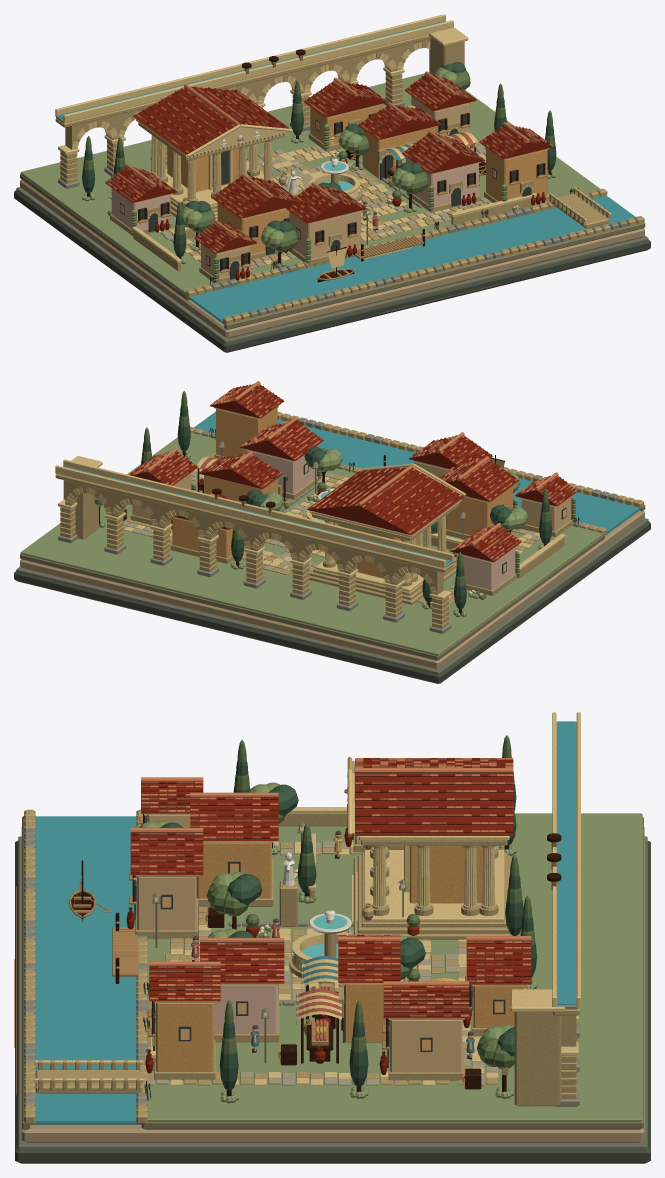
The model's file is roman-town.glb.
3 renders of one model, top to bottom at view 1: azimuth 30°, elevation 25°; view 2: azimuth 150°, elevation 25°; view 3: azimuth 270°, elevation 25°, orthographic. The views are drawn at different scales.
Parts seen in each view (by area): view 1: static_travertine, static_limestone, static_roof, static_grass, river_surface_water, static_base, static_plaster, static_soil_band, static_roof_light, static_soil, static_roof_dark, static_base_trim (+11 smaller); view 2: static_grass, static_travertine, static_roof, static_limestone, static_base, static_soil_band, static_plaster, static_roof_light, river_surface_water, static_base_trim, static_soil, static_roof_dark (+6 smaller); view 3: static_grass, static_roof, static_travertine, river_surface_water, static_limestone, static_plaster, static_base, static_roof_light, static_soil_band, static_plaster_gold, static_roof_dark, static_base_trim (+20 smaller).
Part boxes in pixels (box(x1,y1,x2,y2)): static_travertine: box(55, 34, 644, 324); static_limestone: box(55, 14, 611, 267); static_roof: box(105, 74, 553, 280); static_grass: box(20, 73, 599, 294); river_surface_water: box(190, 195, 635, 321); static_base: box(14, 190, 650, 352); static_plaster: box(167, 105, 547, 254); static_soil_band: box(20, 179, 644, 338); static_roof_light: box(108, 71, 553, 252); static_soil: box(20, 174, 645, 329); static_roof_dark: box(105, 74, 546, 250); static_base_trim: box(16, 187, 648, 343); static_grass: box(20, 432, 603, 655); static_travertine: box(55, 411, 643, 628); static_roof: box(130, 385, 577, 562); static_limestone: box(55, 406, 565, 602); static_base: box(14, 521, 650, 683); static_soil_band: box(20, 510, 644, 669); static_plaster: box(172, 406, 512, 578); static_roof_light: box(128, 381, 577, 559); river_surface_water: box(194, 411, 639, 531); static_base_trim: box(16, 518, 648, 674); static_soil: box(20, 504, 645, 660); static_roof_dark: box(132, 383, 574, 561); static_grass: box(147, 813, 642, 1122); static_roof: box(126, 758, 531, 1074); static_travertine: box(24, 803, 579, 1123); river_surface_water: box(35, 816, 136, 1121); static_limestone: box(34, 712, 580, 1085); static_plaster: box(156, 842, 524, 1071); static_base: box(15, 841, 650, 1163); static_roof_light: box(130, 758, 531, 1016); static_soil_band: box(21, 827, 644, 1142); static_plaster_gold: box(137, 815, 462, 1072); static_roof_dark: box(140, 758, 530, 1016); static_base_trim: box(18, 836, 647, 1149).
Bounding box in the file's own units: 28.5 × 7.51 × 24.54.
39 materials, 6 textured.
